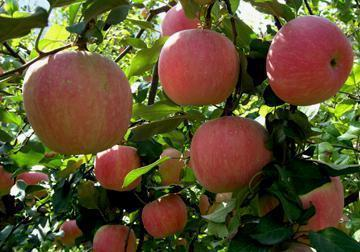apple: (19, 49, 130, 158), (266, 14, 355, 105), (188, 116, 271, 197), (156, 29, 240, 106), (140, 192, 187, 239), (92, 145, 141, 190), (92, 223, 137, 251)
